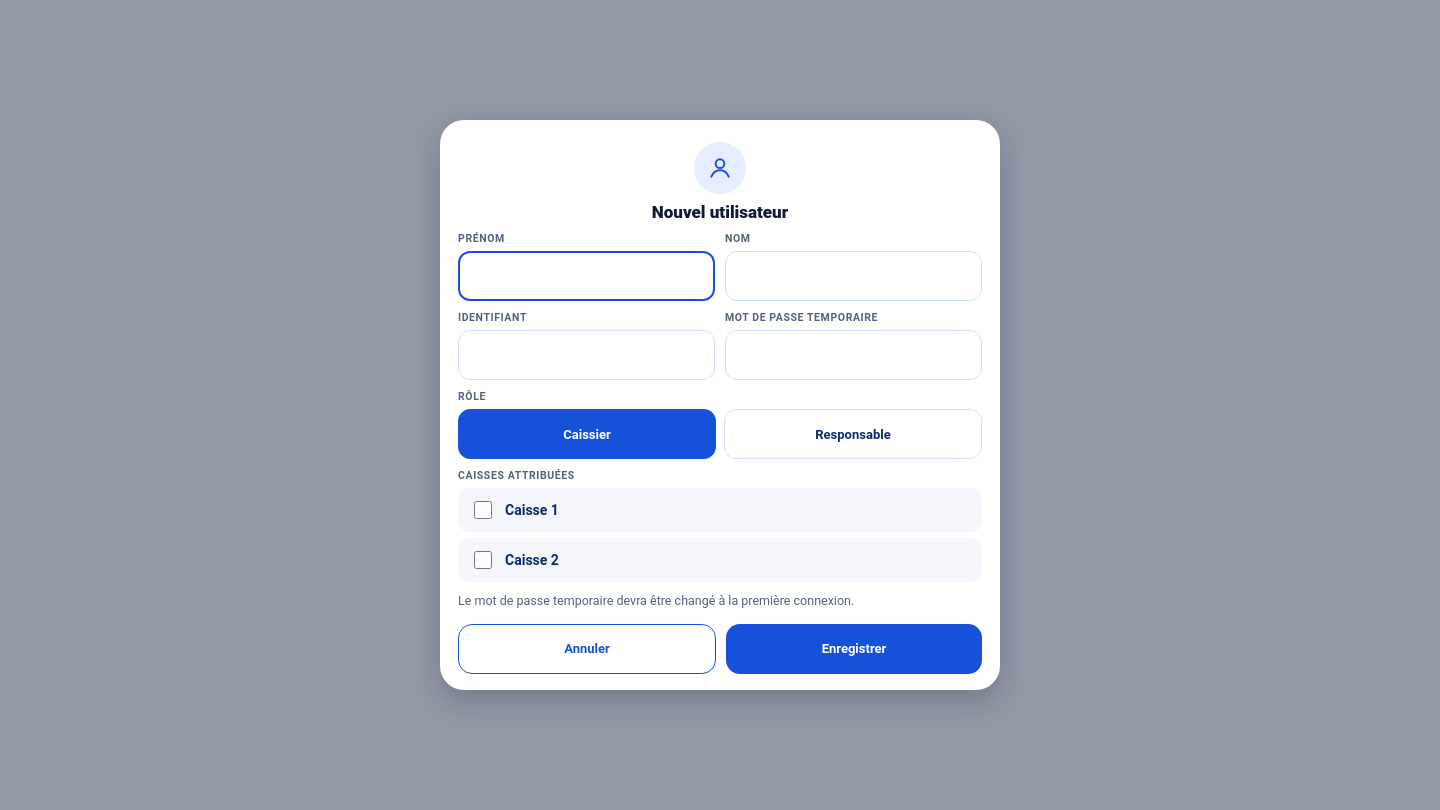
Test: UtilisateurDialogue › guide la saisie d'un nouveau compte sans appeler le serveur
Step 1. Type "Alaoui" into the field labelled "Nom" → (854, 276), box [725,251,982,301]
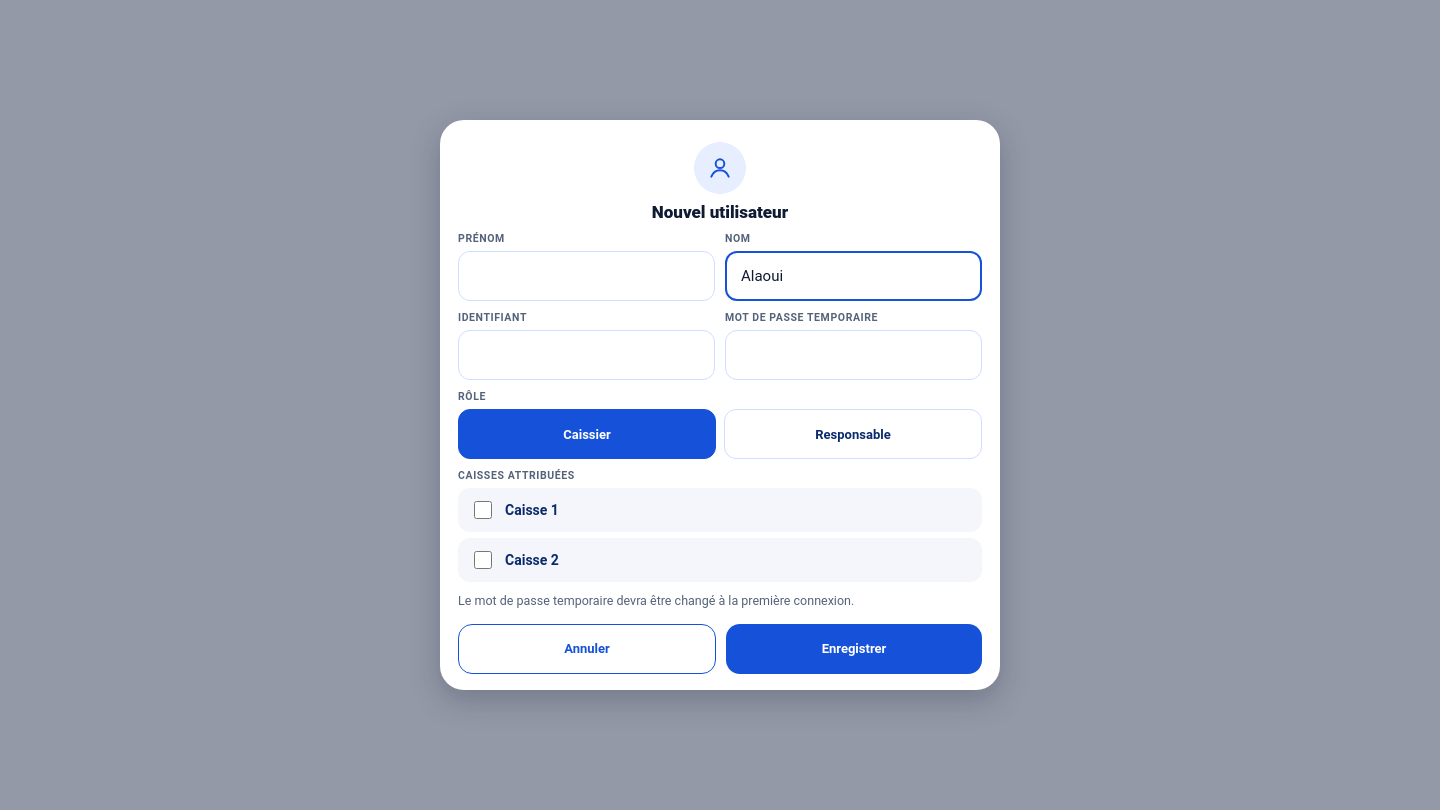
Step 2. Type "karim alaoui" into the field labelled "Identifiant" → (586, 355), box [458,330,715,380]
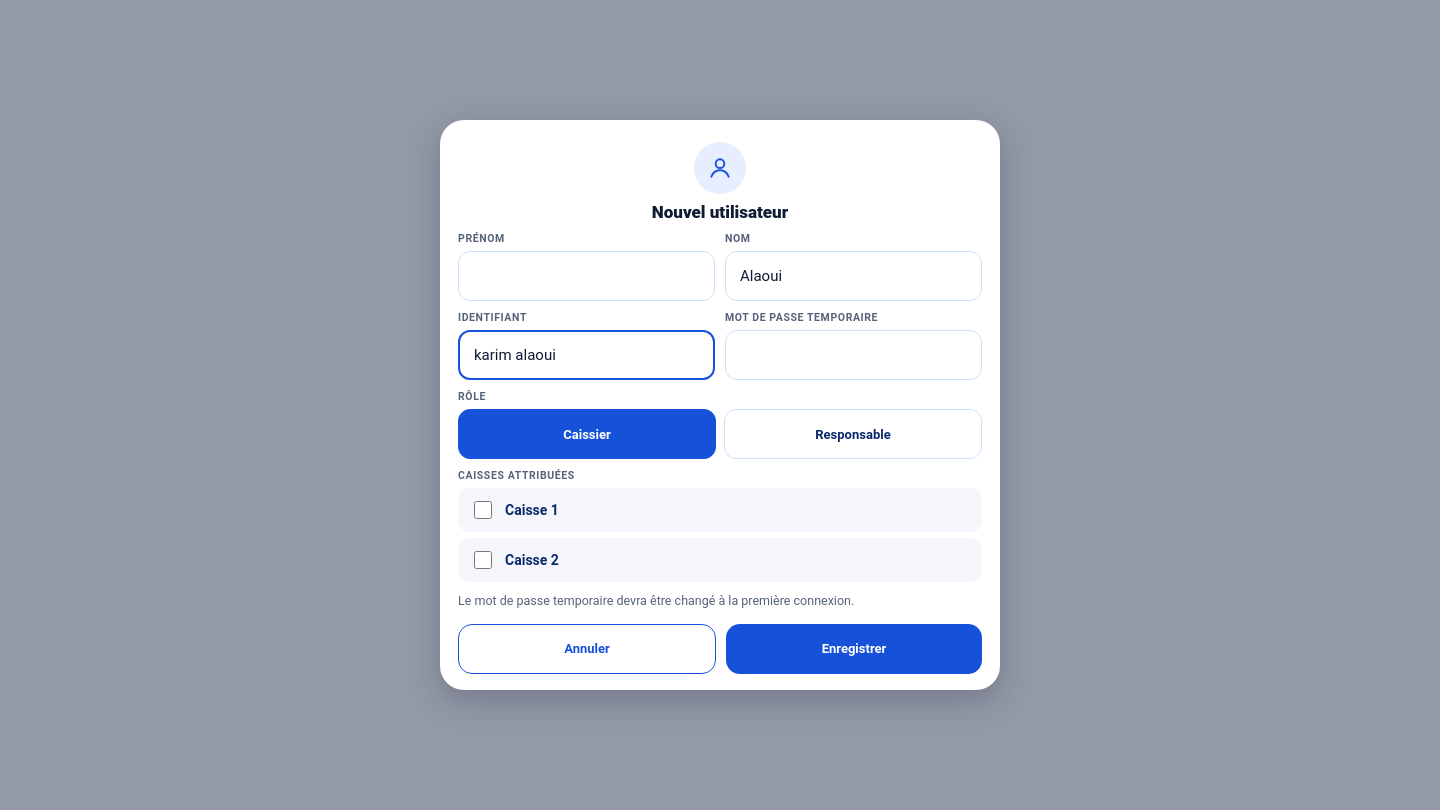
Step 3. Type "court" into the password field labelled "Mot de passe temporaire" → (854, 355), box [725,330,982,380]
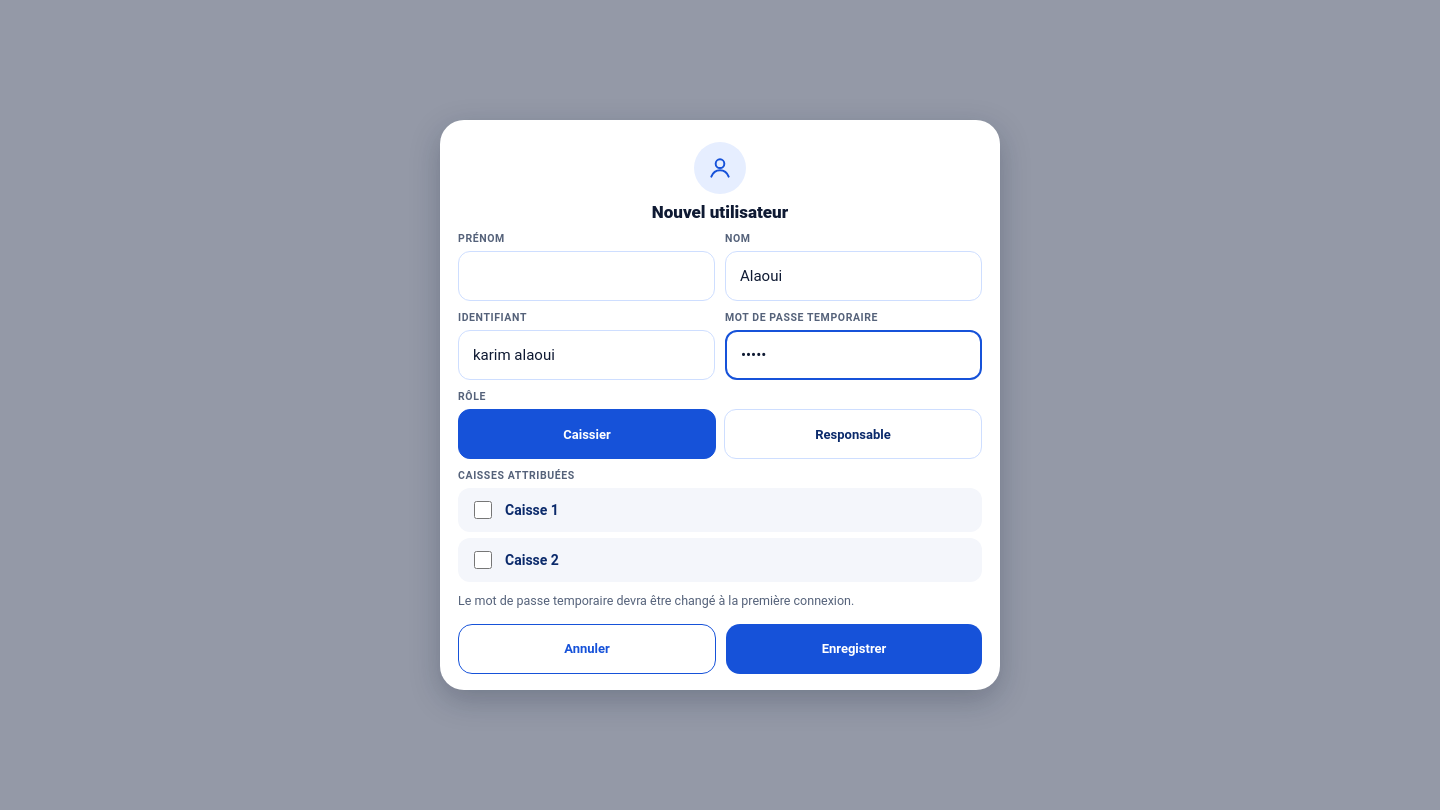
Step 4. Click the button "Enregistrer" → (854, 649), box [726,624,982,674]
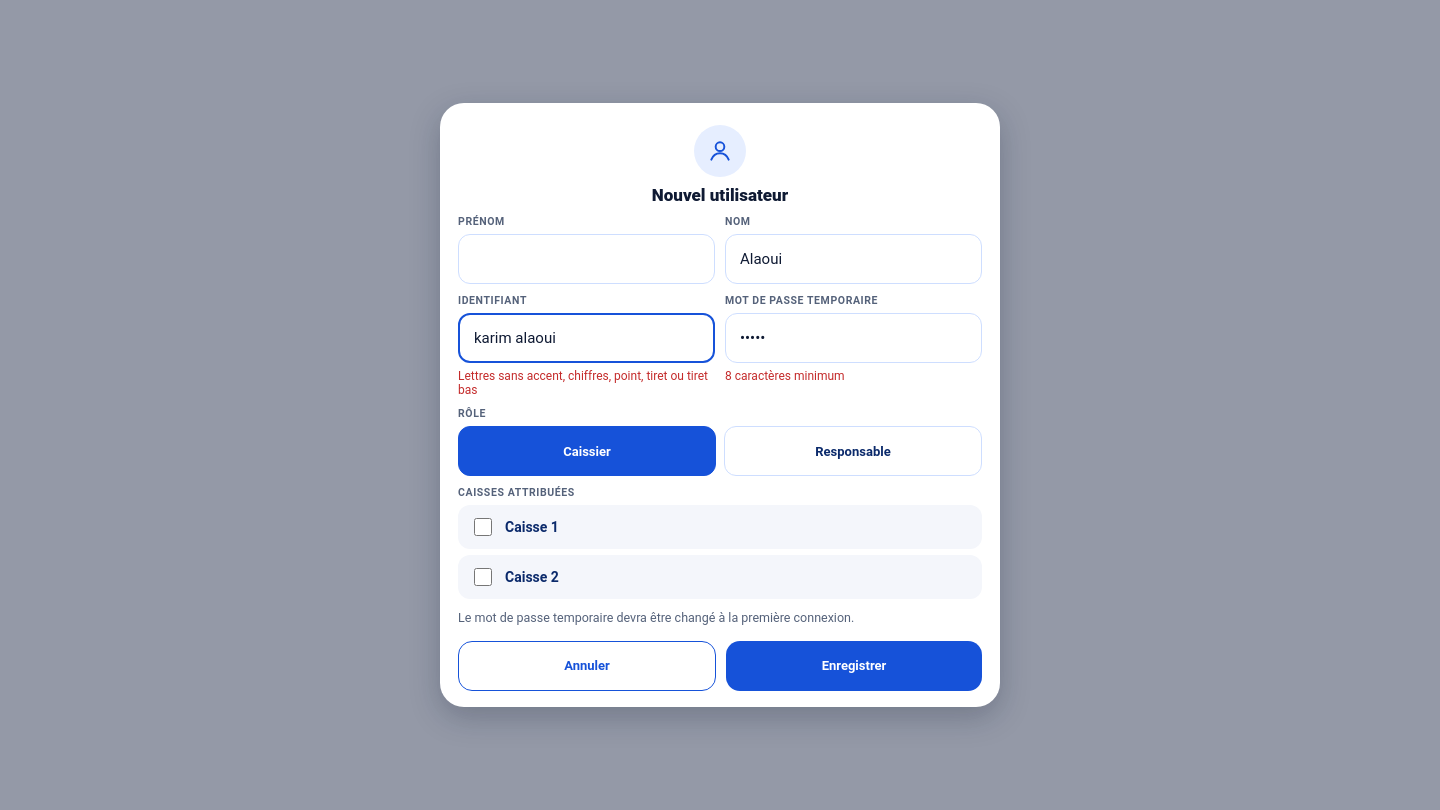
Expected: the text "Lettres sans accent, chiffres, point, tiret ou tiret bas" is shown, [458,369,715,397]
Expected: the text "8 caractères minimum" is shown, [725,369,845,383]
